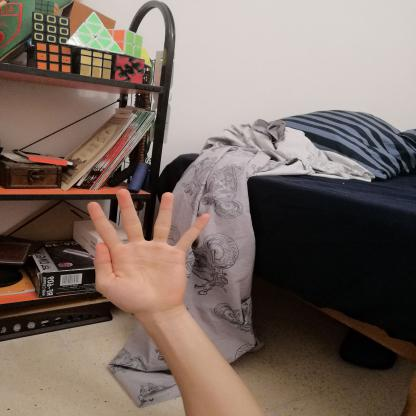SHEEN: (76, 184, 216, 322)
